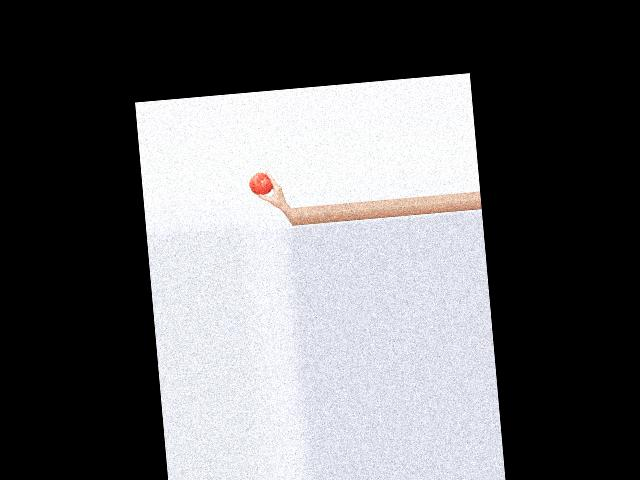tomato: (248, 171, 272, 195)
